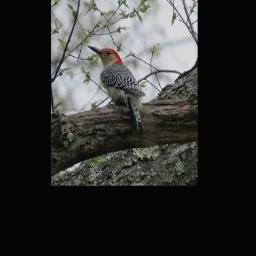Woodpecker: (87, 45, 145, 132)
